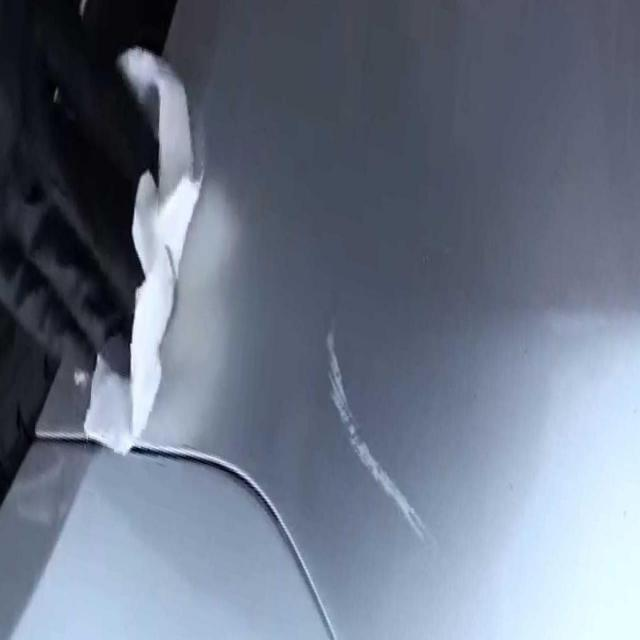scratch: (314, 316, 432, 546)
